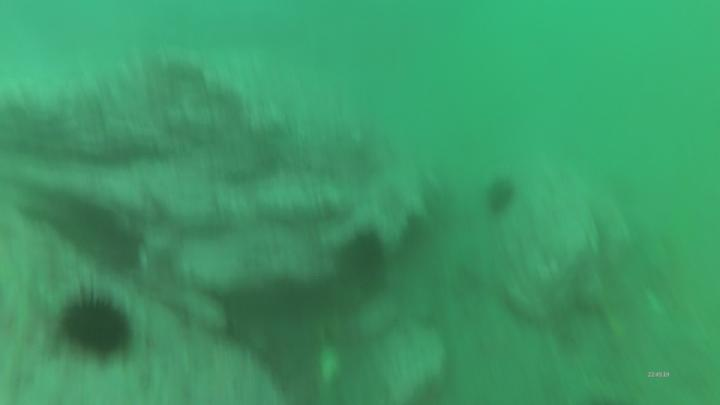echinus: (52, 291, 135, 363), (338, 230, 385, 274), (484, 175, 518, 216)
